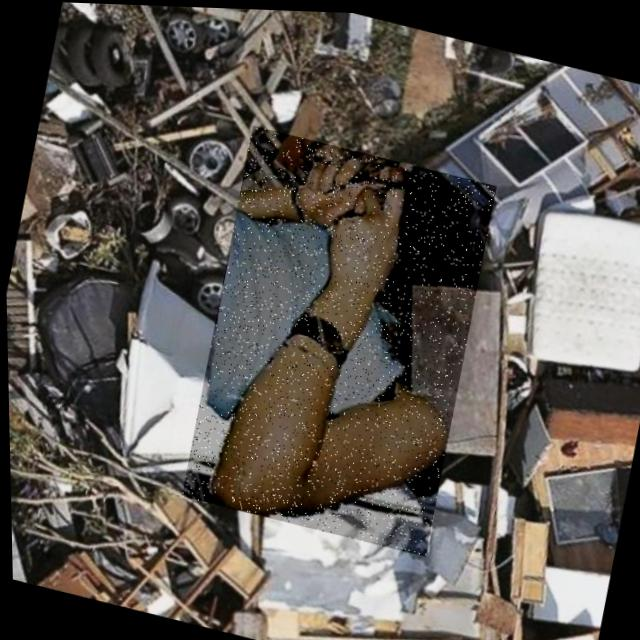Person in Rubble: (172, 121, 501, 555)
